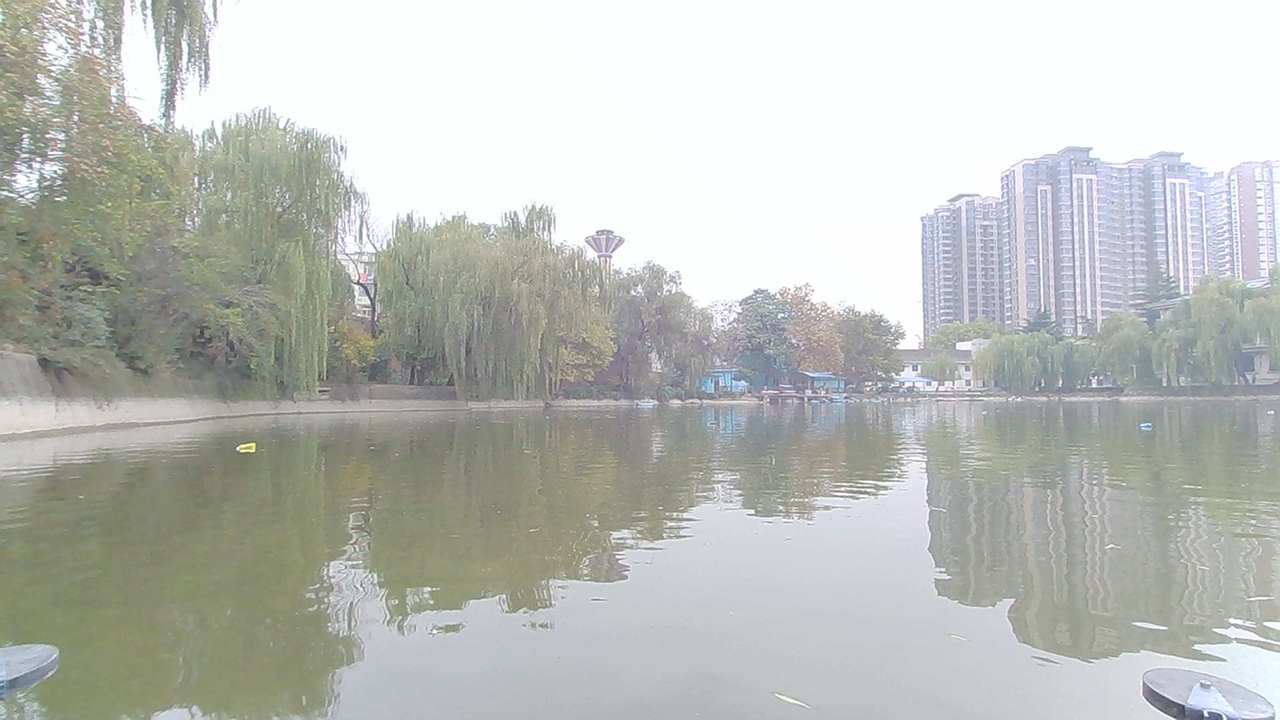bottle: (233, 437, 267, 460), (1131, 416, 1162, 439), (700, 416, 729, 431)
